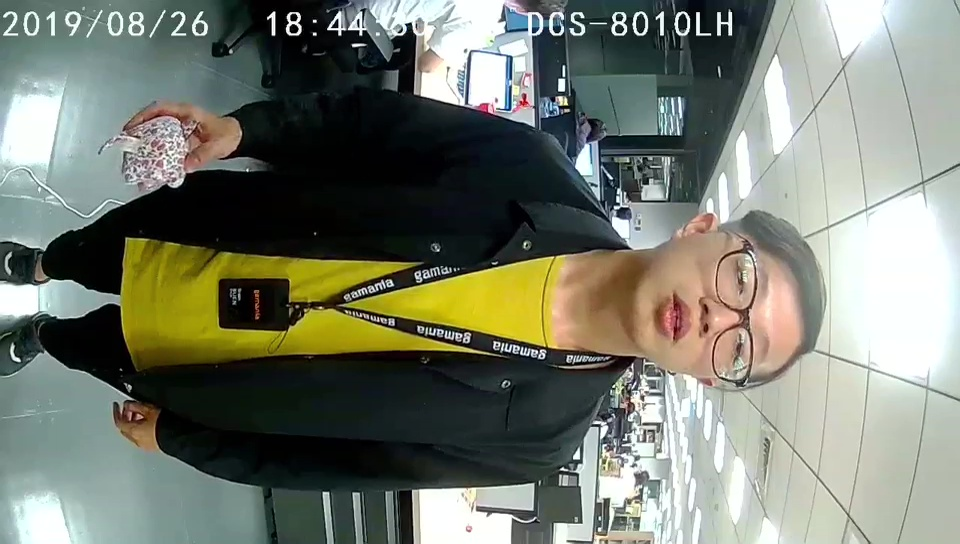pig: (122, 117, 199, 191)
